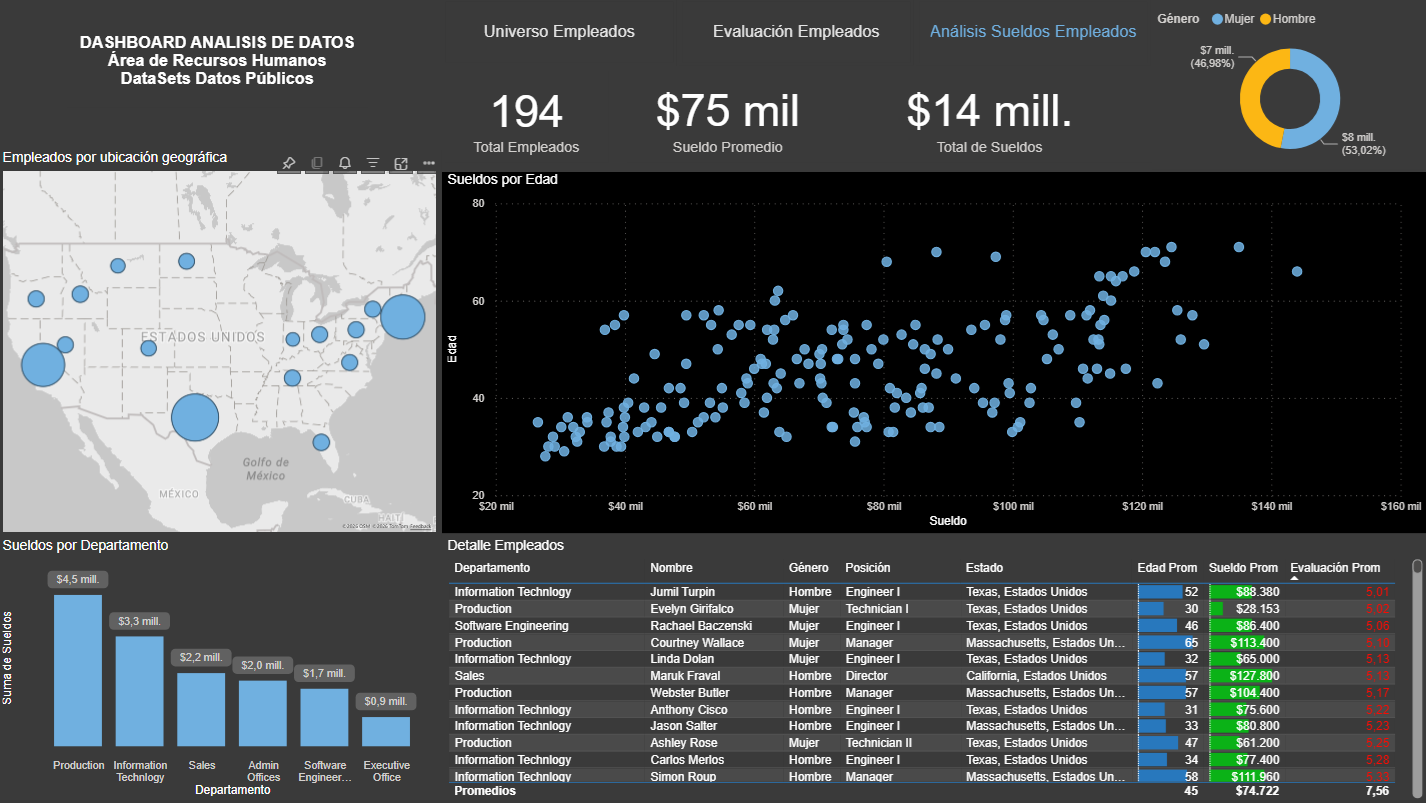

This screenshot's page, from the dashboard's own definition file:
{"tool":"powerbi","page":{"name":"Análisis Sueldos Empleados","canvas":[1280,720],"ordinal":2},"visuals":[{"type":"tableEx","title":"Detalle Empleados","fields":{"Values":["Tabla Empleados.Departamento","Tabla Empleados.Nombre","Tabla Empleados.Géneros","Tabla Empleados.Posición","Tabla Empleados.Estado","Tabla Empleados.Edad Prom","Tabla Sueldo.Sueldo Promedio","Tabla Evaluacion.Evaluación Promedio"]},"box":[397.7,482.9,881.9,237.6],"z":0},{"type":"card","fields":{"Values":["Tabla Empleados.Total Empleados"]},"box":[400.5,65.2,145.7,82.3],"z":1000},{"type":"donutChart","fields":{"Category":["Tabla Empleados.Género_ES"],"Y":["Sum(Tabla Sueldo.Sueldo)"]},"box":[1032.8,0,246.9,153],"z":2000},{"type":"card","fields":{"Values":["Tabla Sueldo.Sueldo "]},"box":[563.3,65.1,180.2,81.8],"z":3000},{"type":"card","fields":{"Values":["Sum(Tabla Sueldo.Sueldo)"]},"box":[743.5,65.1,289.2,81.8],"z":5000},{"type":"scatterChart","title":"Sueldos por Edad","fields":{"X":["Sum(Tabla Sueldo.Sueldo)"],"Category":["Tabla Empleados.Nombre"],"Y":["Sum(Tabla Empleados.Edad)"]},"box":[398.2,156,881.3,323],"z":6000},{"type":"azureMap","title":"Empleados por ubicación geográfica","fields":{"Category":["Tabla Empleados.Estado"],"Size":["Sum(Tabla Sueldo.Sueldo)"]},"box":[0,136.3,398.2,346.8],"z":7000},{"type":"columnChart","title":"Sueldos por Departamento","fields":{"Category":["Tabla Empleados.Departamento"],"Y":["Sum(Tabla Sueldo.Sueldo)"]},"box":[0,482.9,397.7,236.3],"z":8000},{"type":"textbox","box":[63,27,269,71],"z":11000},{"type":"actionButton","title":" ","box":[397.7,0,210,60.8],"z":12000},{"type":"actionButton","title":" ","box":[609.8,0,210,60.7],"z":13000},{"type":"actionButton","title":" ","box":[822,0,210,60.7],"z":14000}]}

Visuals, with their boxes in screenshot pixels (x1, y1, x2, y2), scaled from the page's 1280x720 canvas onto the 1426x803 screenshot:
"Detalle Empleados" tableEx: 443,539,1425,802
card - Tabla Empleados.Total Empleados: 446,73,609,165
donutChart - Tabla Empleados.Género_ES x Sum(Tabla Sueldo.Sueldo): 1151,0,1425,171
card - Tabla Sueldo.Sueldo : 628,73,828,164
card - Sum(Tabla Sueldo.Sueldo): 828,73,1150,164
"Sueldos por Edad" scatterChart: 444,174,1425,534
"Empleados por ubicación geográfica" azureMap: 0,152,444,539
"Sueldos por Departamento" columnChart: 0,539,443,802
textbox: 70,30,370,109
" " actionButton: 443,0,677,68
" " actionButton: 679,0,913,68
" " actionButton: 916,0,1150,68
